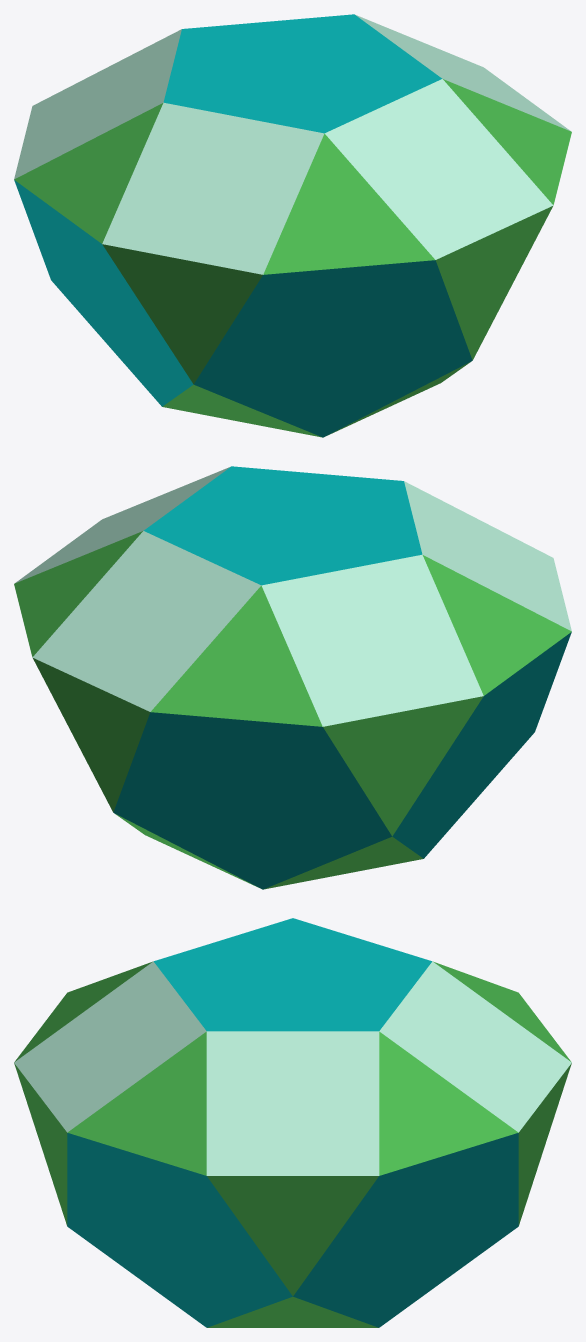
The model's file is J32.OrtocupularrotondaPentagonal.gltf.
3 renders of one model, top to bottom at view 1: azimuth 30°, elevation 25°; view 2: azimuth 150°, elevation 25°; view 3: azimuth 270°, elevation 25°, orthographic. The views are drawn at different scales.
Visible parts, largest first — view 1: J32.OrtocupularrotondaPentagonal; view 2: J32.OrtocupularrotondaPentagonal; view 3: J32.OrtocupularrotondaPentagonal.
Part boxes in pixels (x1,y1,x2,y2): J32.OrtocupularrotondaPentagonal: [14, 14, 571, 437]; J32.OrtocupularrotondaPentagonal: [14, 466, 571, 889]; J32.OrtocupularrotondaPentagonal: [14, 918, 571, 1327].
Bounding box in the file's own units: 19.02 × 11.8 × 20.
